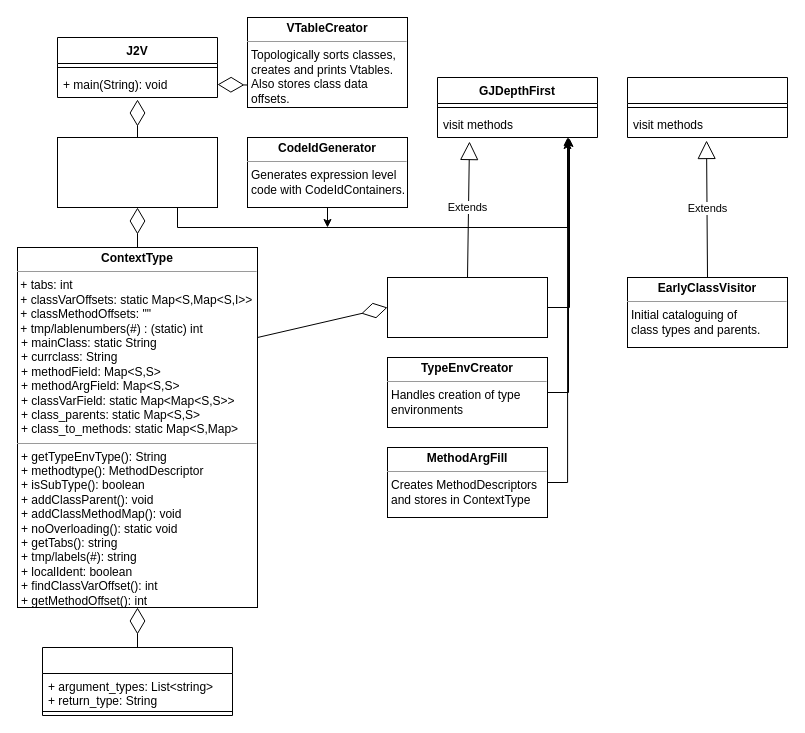
Some shapes in this 805 by 733 pixel diagram are drawn without their labels. Here are the shapes that lost their labels. From the top down, the box of each, then its label:
(626, 76, 788, 138): GJDepthVoidFirst
(56, 136, 218, 208): CodeGenerator Generate code through from goal through statements.
(386, 276, 548, 338): UpperLevelVisitor Goal through method visitors.
(42, 646, 232, 716): MethodDescriptor
